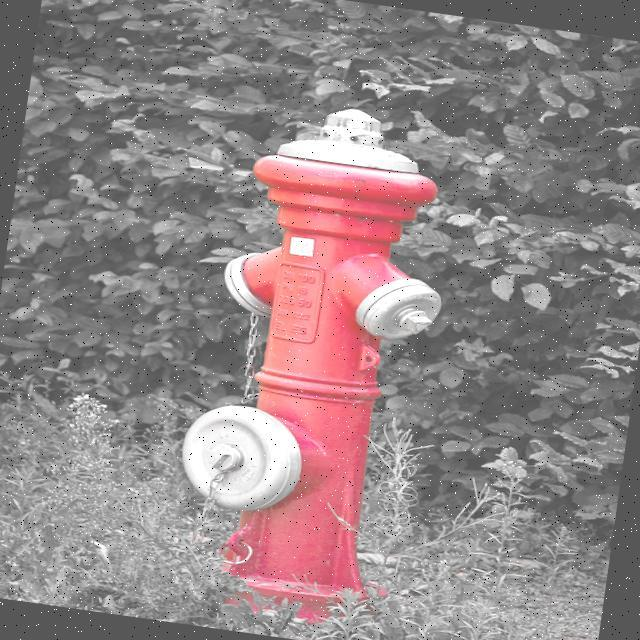fire_hydrant: (161, 91, 467, 634)
